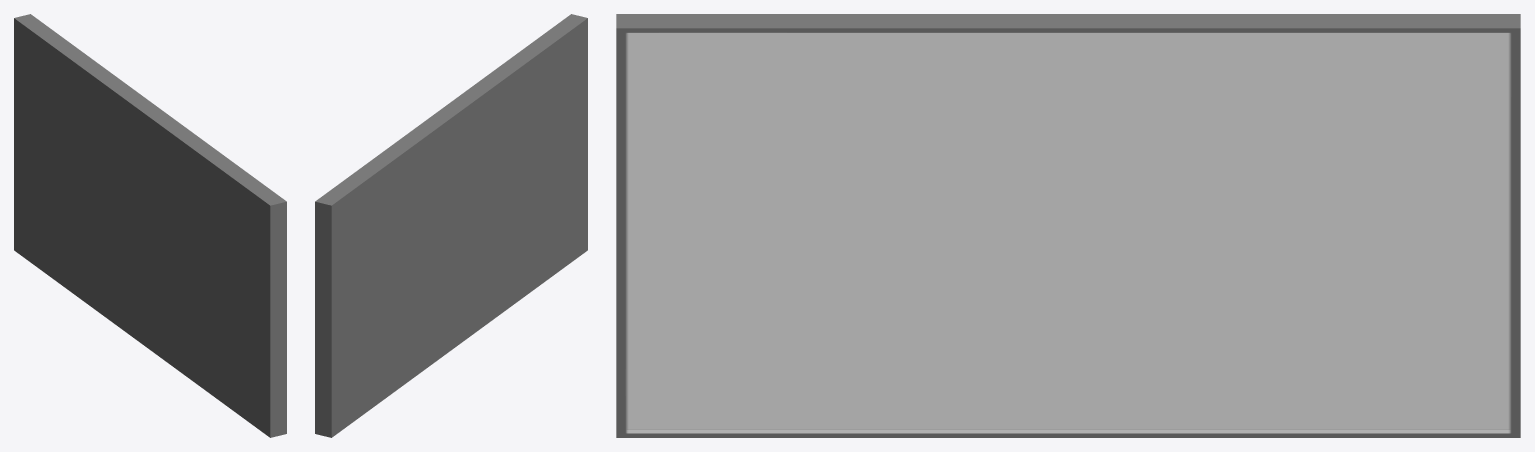
The model's file is Whiteboard.glb.
3 renders of one model, left to right at view 1: azimuth 30°, elevation 25°; view 2: azimuth 150°, elevation 25°; view 3: azimuth 270°, elevation 25°, orthographic. The views are drawn at different scales.
Parts seen in each view (by area): view 1: Cube; view 2: Cube; view 3: Cube.
Part boxes in pixels (x1,y1,x2,y2): Cube: (14, 14, 286, 437); Cube: (315, 14, 587, 437); Cube: (616, 14, 1520, 437).
Size of the model in its own units: 0.15 by 2 by 4.
1 material, 1 textured.
